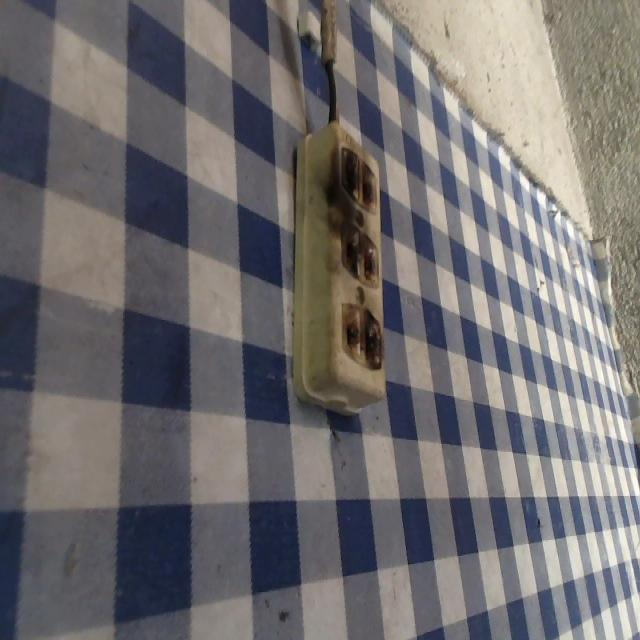-: (336, 300, 383, 372), (335, 140, 378, 213), (338, 216, 381, 288)
